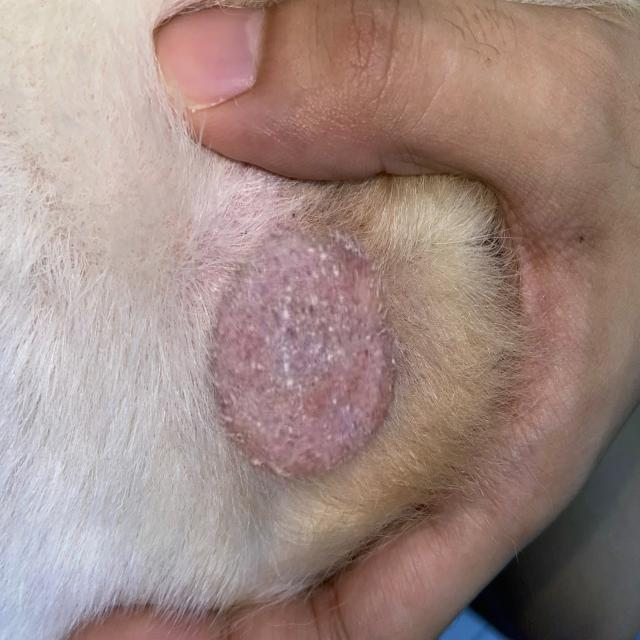ringworm: (168, 205, 452, 498)
